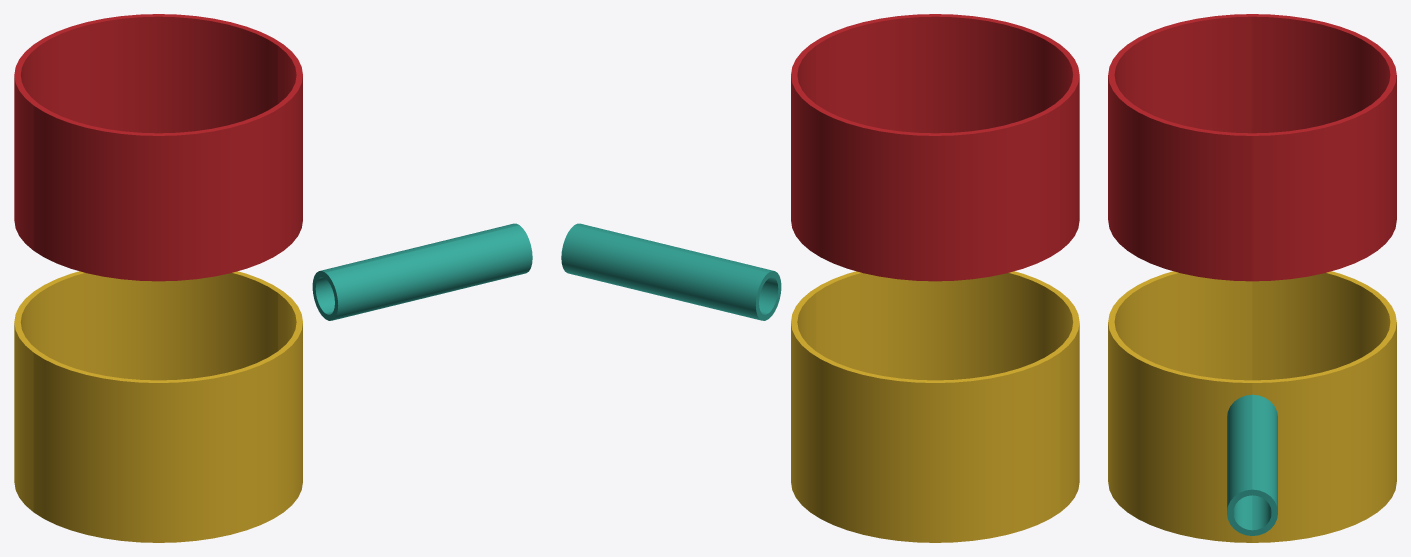
The model's file is blowdown_tank_temperature.glb.
3 renders of one model, left to right at view 1: azimuth 30°, elevation 25°; view 2: azimuth 150°, elevation 25°; view 3: azimuth 270°, elevation 25°, orthographic.
Parts seen in each view (by area): view 1: temperature__front, temperature__back; view 2: temperature__back, temperature__front; view 3: temperature__back, temperature__front.
Part boxes in pixels (x1=…): temperature__front: x1=33, y1=44, x2=532, y2=542; temperature__back: x1=14, y1=14, x2=519, y2=511; temperature__back: x1=561, y1=44, x2=1060, y2=542; temperature__front: x1=574, y1=14, x2=1079, y2=511; temperature__back: x1=1252, y1=14, x2=1396, y2=542; temperature__front: x1=1108, y1=14, x2=1252, y2=542.
Bounding box in the file's own units: 1.75 × 1.4 × 0.9.
